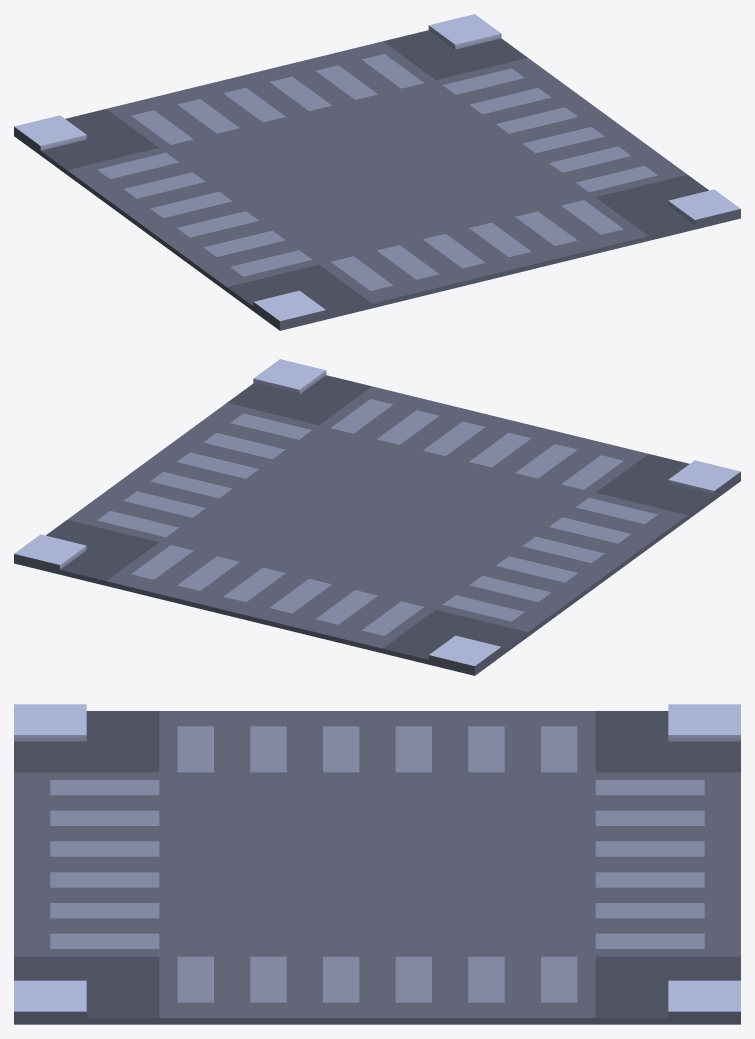
Rendered from road-crossroad-path.glb.
3 views of the same model, one above another, from view 1: azimuth 30°, elevation 25°; view 2: azimuth 150°, elevation 25°; view 3: azimuth 270°, elevation 25° (orthographic). The views are drawn at different scales.
Visible parts, largest first — view 1: road-crossroad-path; view 2: road-crossroad-path; view 3: road-crossroad-path.
Boxes of the visible parts, <box> form: road-crossroad-path: <box>14,14,740,330</box>; road-crossroad-path: <box>14,359,740,675</box>; road-crossroad-path: <box>14,704,740,1024</box>.
Bounding box in the file's own units: 1 × 0.02 × 1.
1 material, 1 textured.
